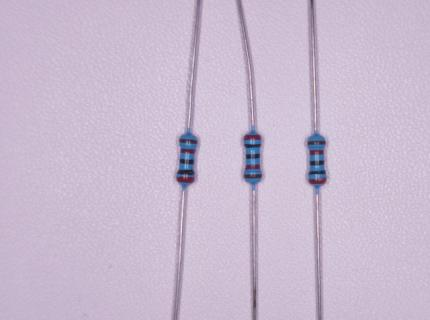Black band: (177, 169, 195, 175), (179, 158, 195, 164), (308, 170, 326, 175), (309, 160, 324, 166), (246, 153, 260, 159), (244, 144, 261, 148)
Brown band: (179, 138, 198, 145), (244, 174, 262, 179), (307, 141, 326, 145)
Red band: (176, 177, 194, 183), (308, 178, 326, 184), (244, 164, 261, 170), (309, 150, 324, 156), (244, 135, 261, 140), (180, 149, 196, 154)
